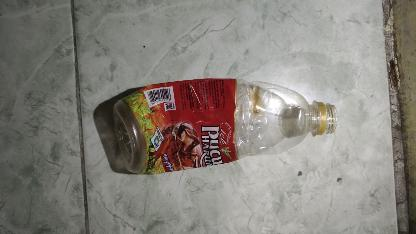Plastic Bottle: (112, 77, 338, 174)
